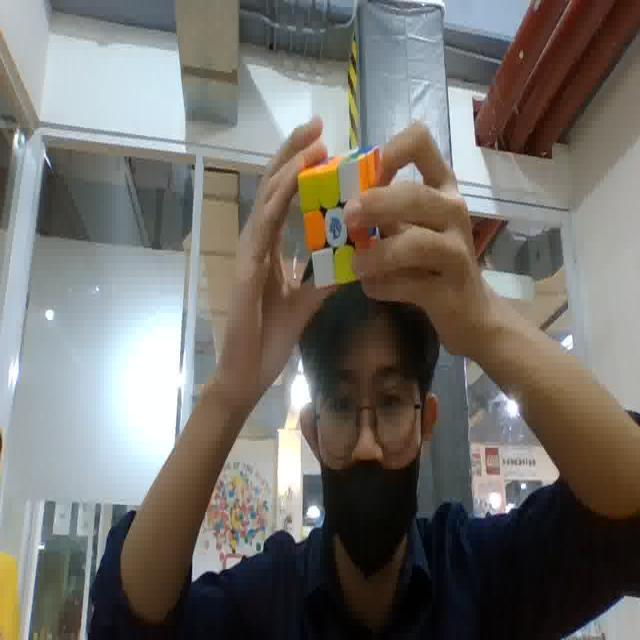Rub: (294, 143, 387, 289)
